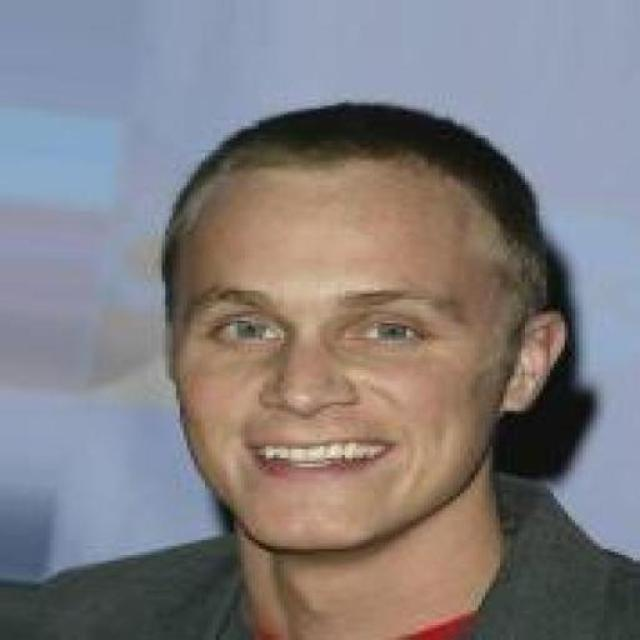bareface: (138, 130, 540, 546)
